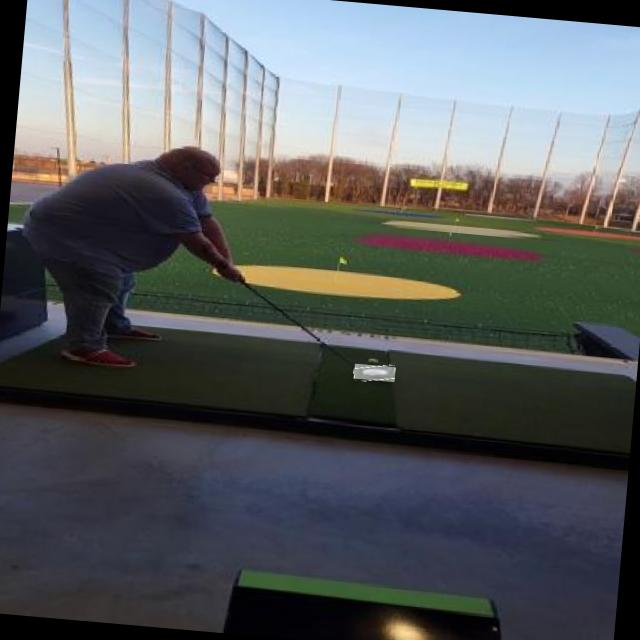club head: (353, 363, 395, 382)
